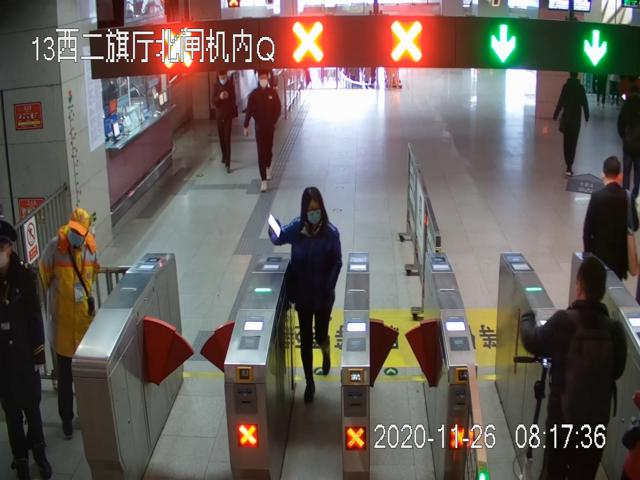person: (269, 185, 344, 403), (35, 208, 94, 440), (244, 72, 283, 191), (212, 69, 239, 174)
